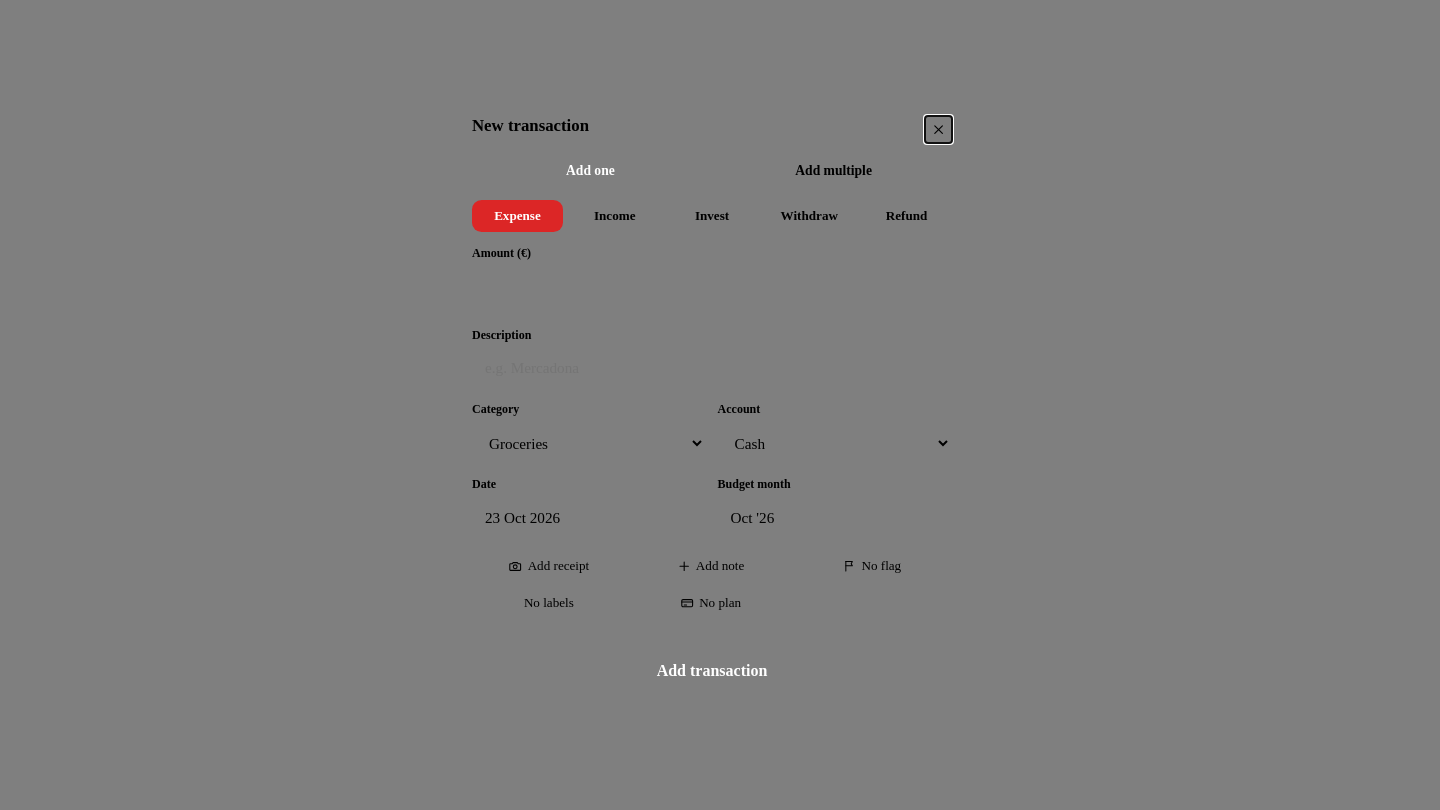
Test: TransactionModal — withdrawals › offers no installment plan for a withdrawal
Check: the button "No plan" is shown, box [634,588,787,617]
What coordinates should you click on to do the following:
click the button "Withdraw"
I would click on:
 (809, 216)
Its box is [764,200,855,232].
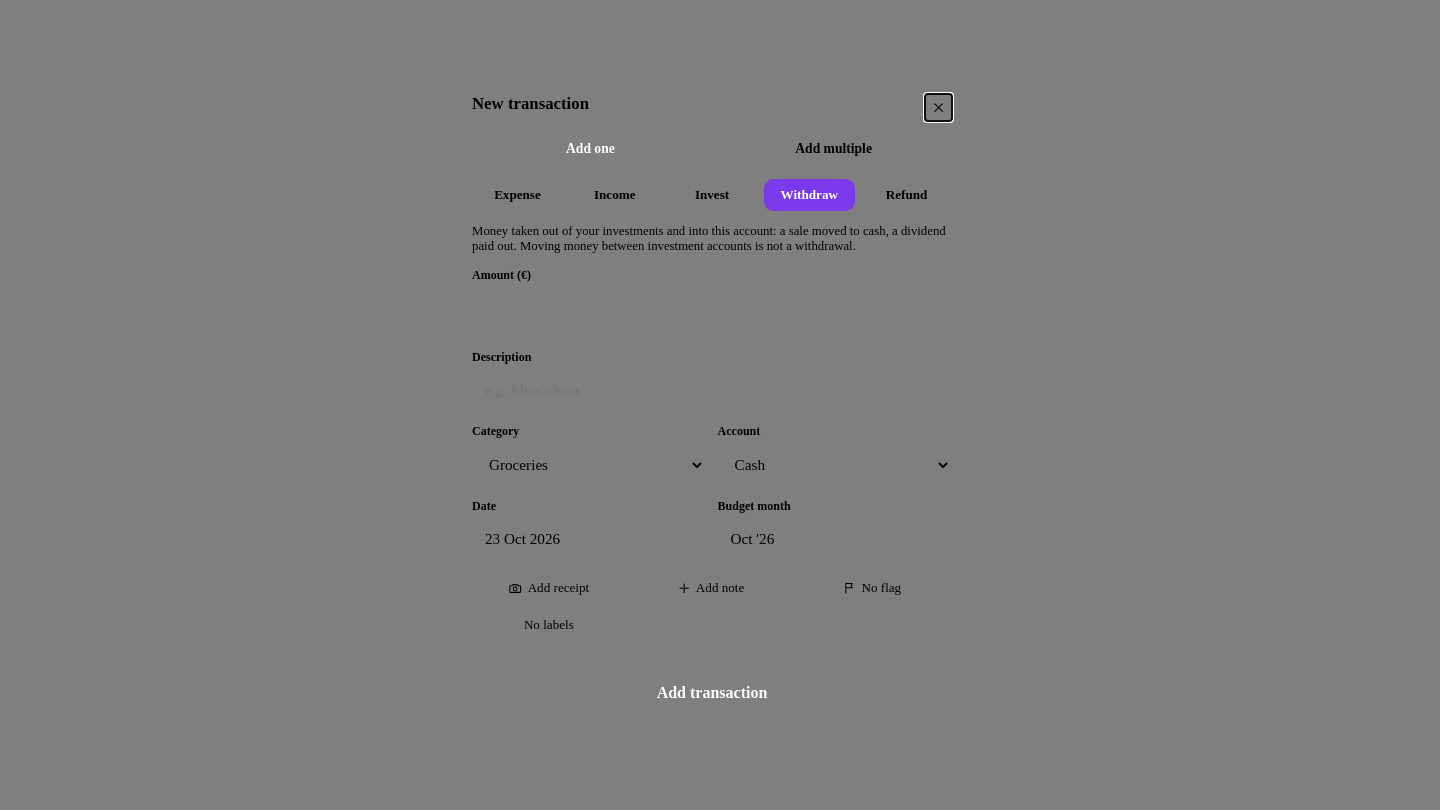
Check: the button "No plan" is gone
What coordinates should you click on to do the following:
click the button "Invest"
I would click on:
 (712, 195)
Its box is [666,179,757,211].
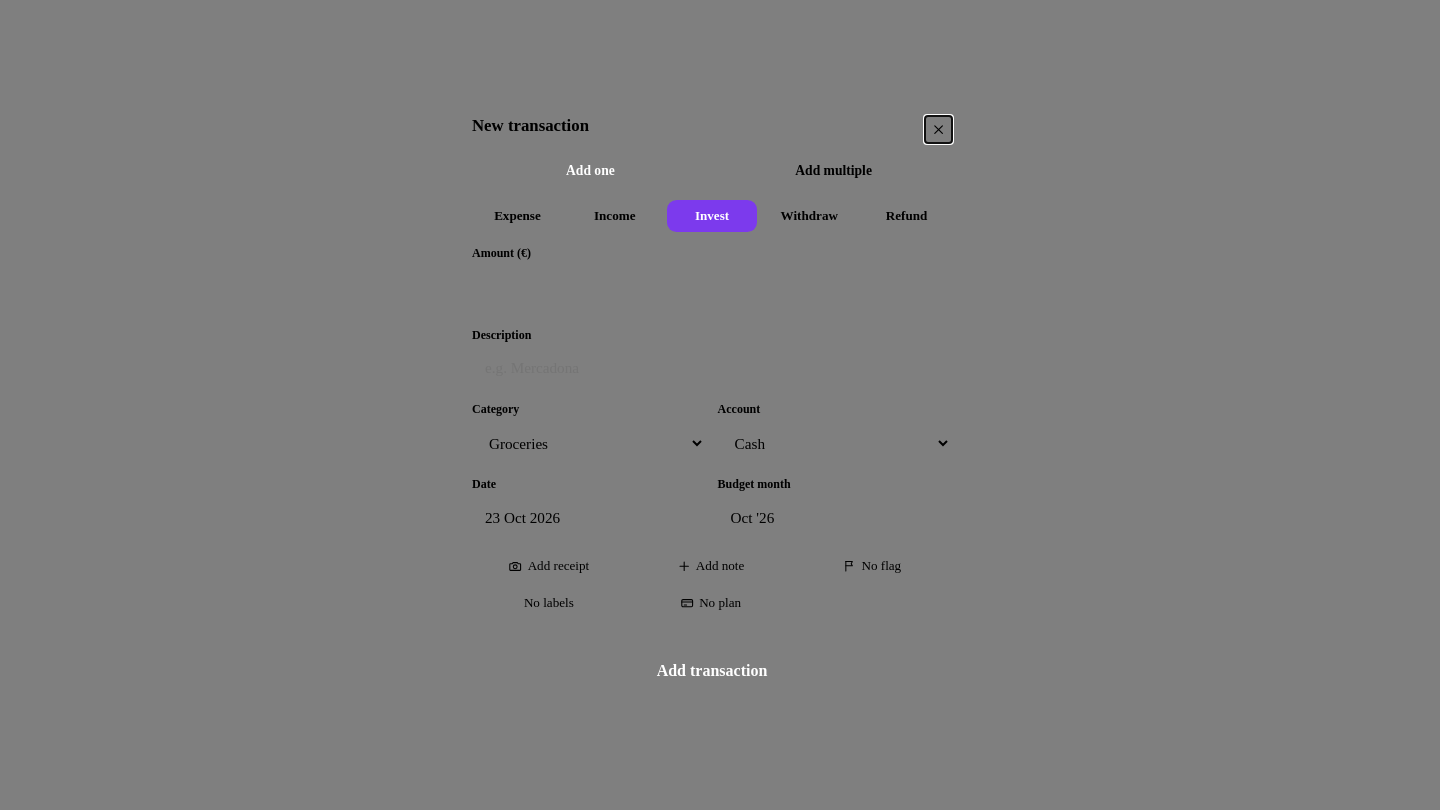
Check: the button "No plan" is shown, box [634,588,787,617]
